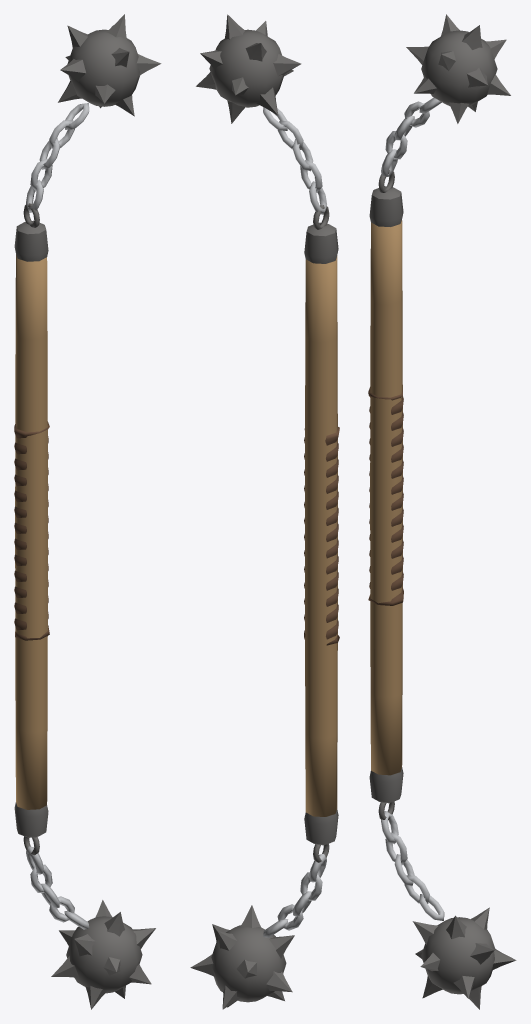
Rendered from dire-flail.glb.
3 renders of one model, left to right at view 1: azimuth 30°, elevation 25°; view 2: azimuth 150°, elevation 25°; view 3: azimuth 330°, elevation 25°, orthographic.
Parts seen in each view (by area): view 1: dire-flail; view 2: dire-flail; view 3: dire-flail.
Boxes of the visible parts, bbox=[...] form: dire-flail: bbox=[14, 14, 161, 1009]; dire-flail: bbox=[190, 14, 339, 1009]; dire-flail: bbox=[368, 14, 516, 1009].
Bounding box in the file's own units: 0.4035 × 2.84 × 0.2685.
